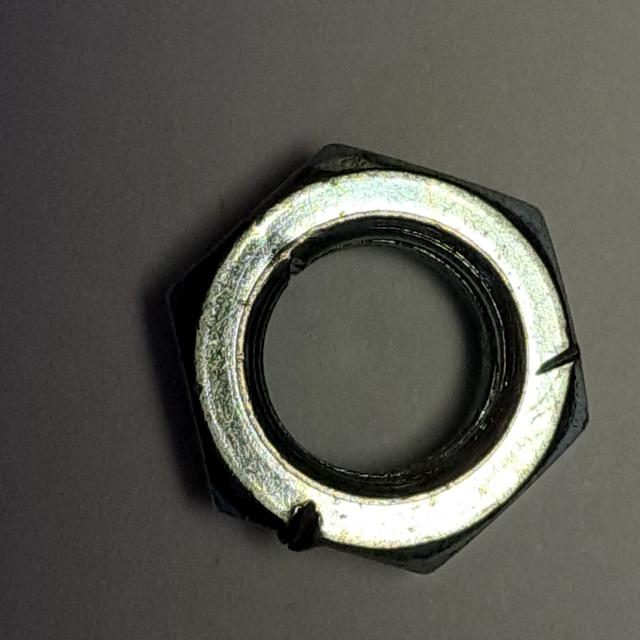Scratches: (154, 134, 602, 589)
